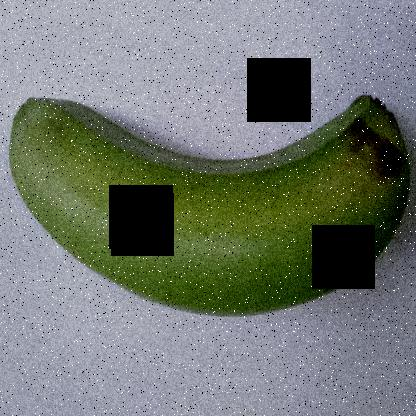freshunripe: (2, 65, 415, 330)
